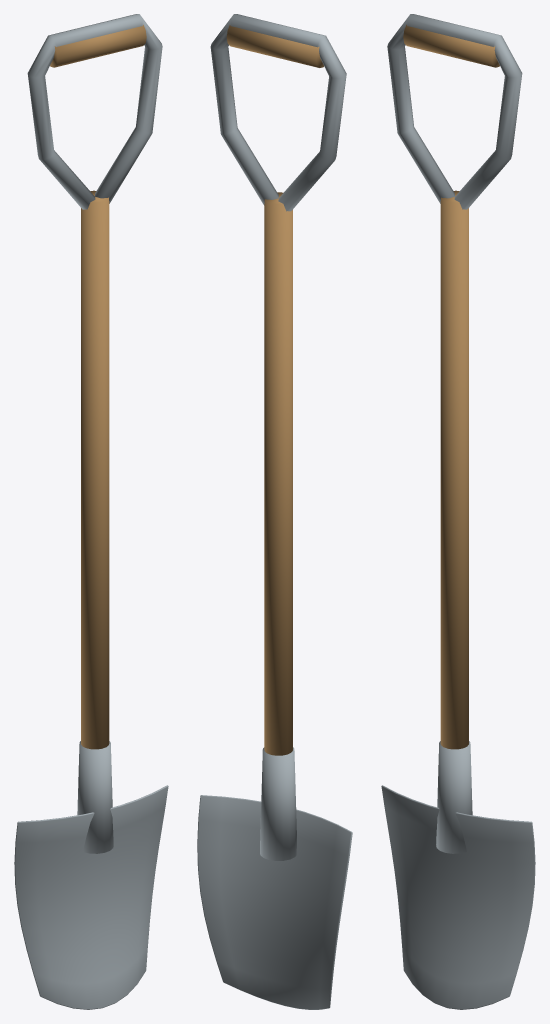
File: blender-builder-shovel.glb
3 renders of one model, left to right at view 1: azimuth 30°, elevation 25°; view 2: azimuth 150°, elevation 25°; view 3: azimuth 330°, elevation 25°, orthographic.
Parts seen in each view (by area): view 1: Concave steel blade, Ash shaft, D grip frame, Steel socket, Wooden cross grip; view 2: Concave steel blade, Ash shaft, D grip frame, Steel socket, Wooden cross grip; view 3: Concave steel blade, Ash shaft, D grip frame, Steel socket, Wooden cross grip.
Part boxes in pixels (left/top/right/bottom): Concave steel blade: left=14, top=785, right=168, bottom=1009; Ash shaft: left=81, top=190, right=109, bottom=749; D grip frame: left=27, top=14, right=162, bottom=209; Steel socket: left=77, top=741, right=113, bottom=853; Wooden cross grip: left=50, top=25, right=146, bottom=67; Concave steel blade: left=197, top=795, right=352, bottom=1009; Ash shaft: left=264, top=192, right=292, bottom=755; D grip frame: left=210, top=14, right=346, bottom=211; Steel socket: left=260, top=747, right=296, bottom=860; Wooden cross grip: left=226, top=25, right=323, bottom=67; Concave steel blade: left=381, top=785, right=535, bottom=1009; Ash shaft: left=440, top=190, right=468, bottom=749; D grip frame: left=387, top=14, right=522, bottom=209; Steel socket: left=436, top=741, right=472, bottom=853; Wooden cross grip: left=403, top=24, right=499, bottom=67.
Size of the model in its own units: 0.2308 by 1.43 by 0.05.
